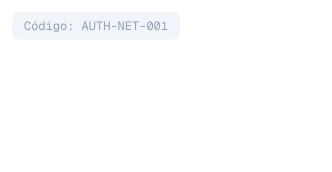
Test: ErrorCodeDisplay › shows copied feedback after click
Step 1. Click the button → (96,26), box [12,12,180,40]
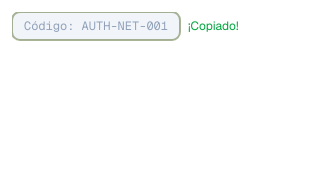
Expected: the text "¡Copiado!" is shown, [188,18,238,34]
